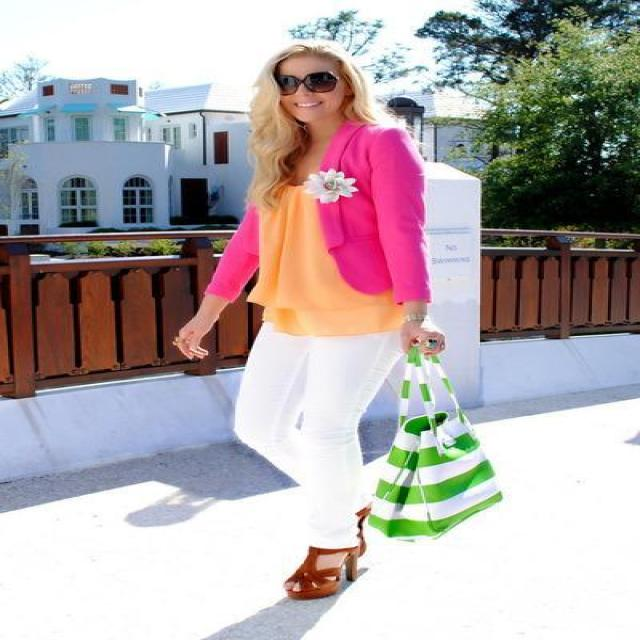bag: (358, 381, 501, 536)
jacket: (203, 121, 429, 304)
pants: (216, 322, 402, 547)
shirt: (246, 192, 402, 336)
shoe: (288, 538, 366, 600)
sunglass: (272, 64, 354, 105)
